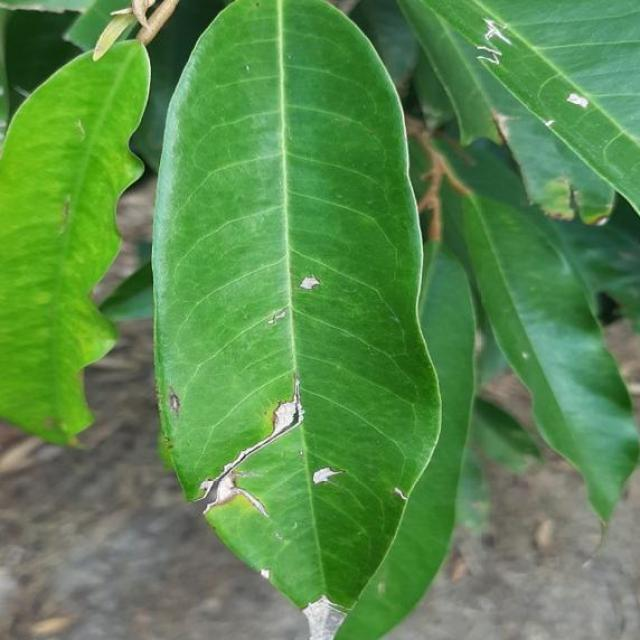Leaf Blight: (140, 0, 434, 640)
